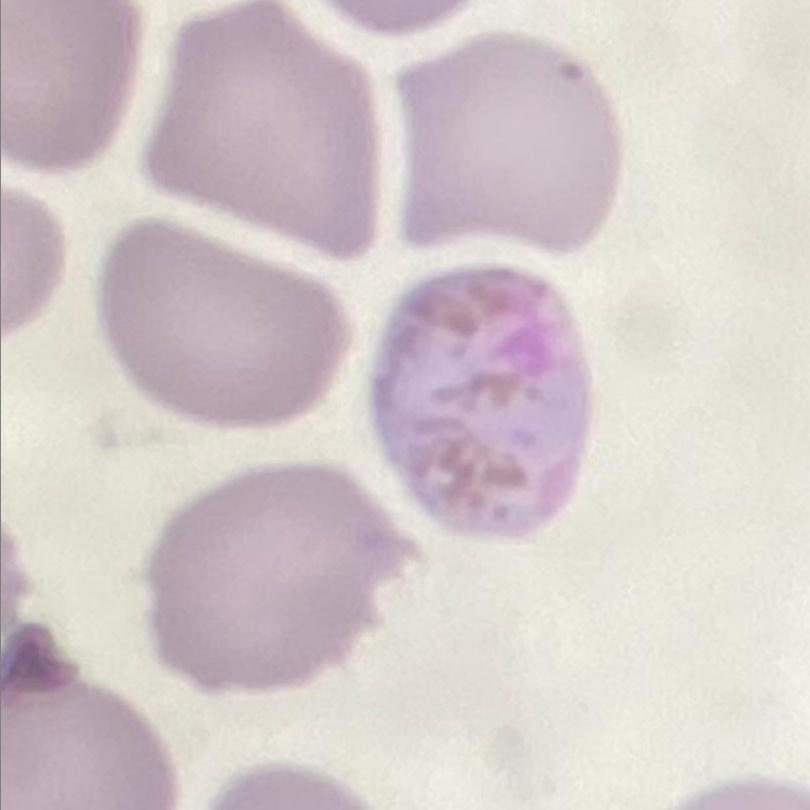Infected: (372, 263, 592, 556)
Uninfected: (144, 5, 373, 264), (144, 471, 404, 694), (86, 217, 349, 424), (390, 31, 616, 252)
